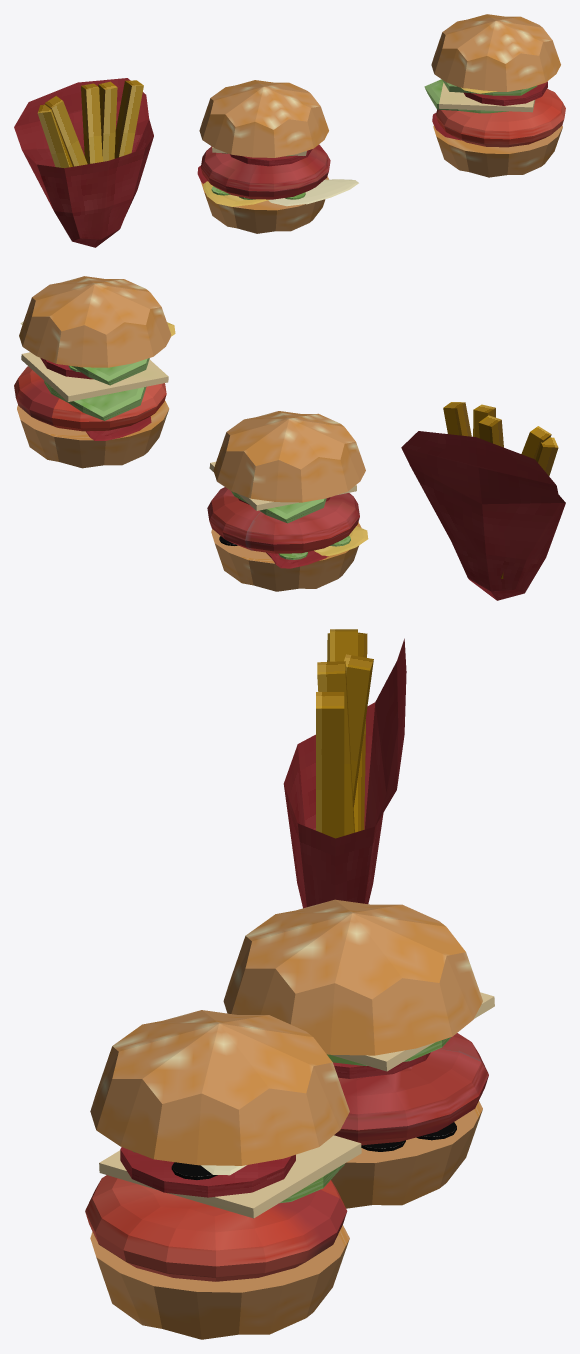
The model's file is Cheeseburger.obj.
The picture shows the model from 3 angles, top to bottom: view 1: azimuth 30°, elevation 25°; view 2: azimuth 150°, elevation 25°; view 3: azimuth 270°, elevation 25°; orthographic projection. The views are drawn at different scales.
Visible parts, largest first — view 1: Hamburger, Cheese_burger, Fries; view 2: Hamburger, Cheese_burger, Fries; view 3: Hamburger, Cheese_burger, Fries.
Part boxes in pixels (left/top/right/bottom): Hamburger: left=424, top=14, right=565, bottom=177; Cheese_burger: left=197, top=80, right=358, bottom=233; Fries: left=14, top=78, right=153, bottom=247; Hamburger: left=14, top=276, right=175, bottom=468; Cheese_burger: left=207, top=411, right=368, bottom=591; Fries: left=401, top=402, right=565, bottom=600; Hamburger: left=85, top=1010, right=361, bottom=1339; Cheese_burger: left=223, top=899, right=494, bottom=1208; Fries: left=283, top=629, right=406, bottom=908.
Bounding box in the file's own units: 3.67 × 1.3 × 1.31.
